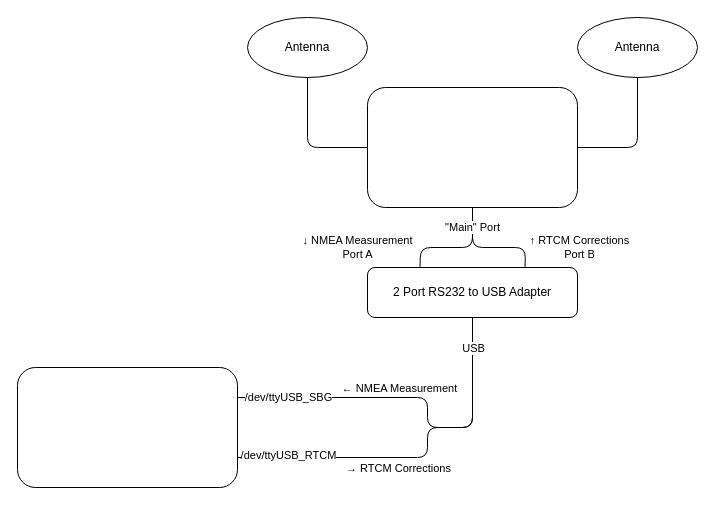
Image size: 715x505. Some labels were removed from this diagram. The box of each missing label's shape, as (x1, y1, x2, y2) in pixels:
Client on Computer (e.g., BNC on Linux or Windows): (16, 366, 238, 488)
GNSS Receiver (e.g., SBG Ellipse D): (366, 86, 578, 208)
